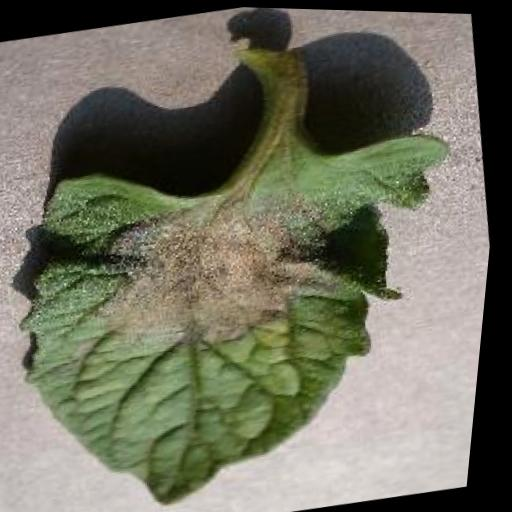Late Blight: (0, 109, 504, 512)
